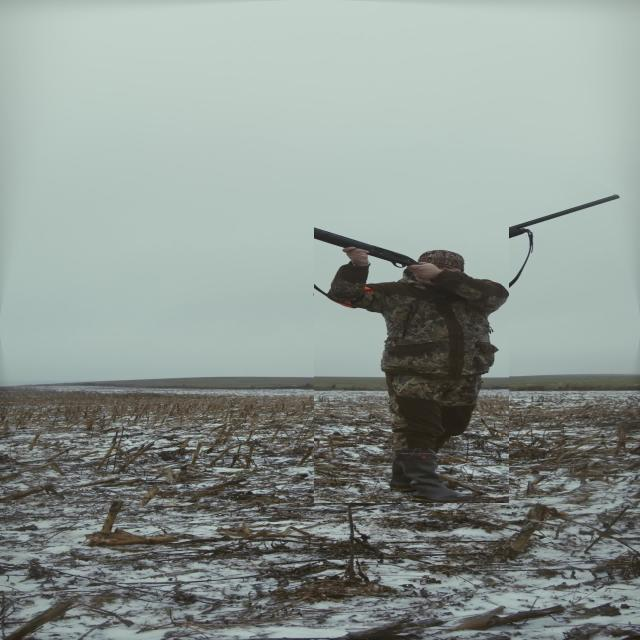poacher: (314, 220, 509, 503)
weapon: (404, 194, 630, 270)
